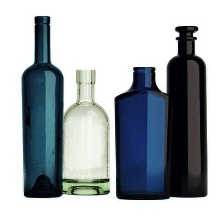bottle: (16, 9, 62, 203), (110, 65, 171, 203), (165, 22, 210, 200), (62, 66, 113, 204)
